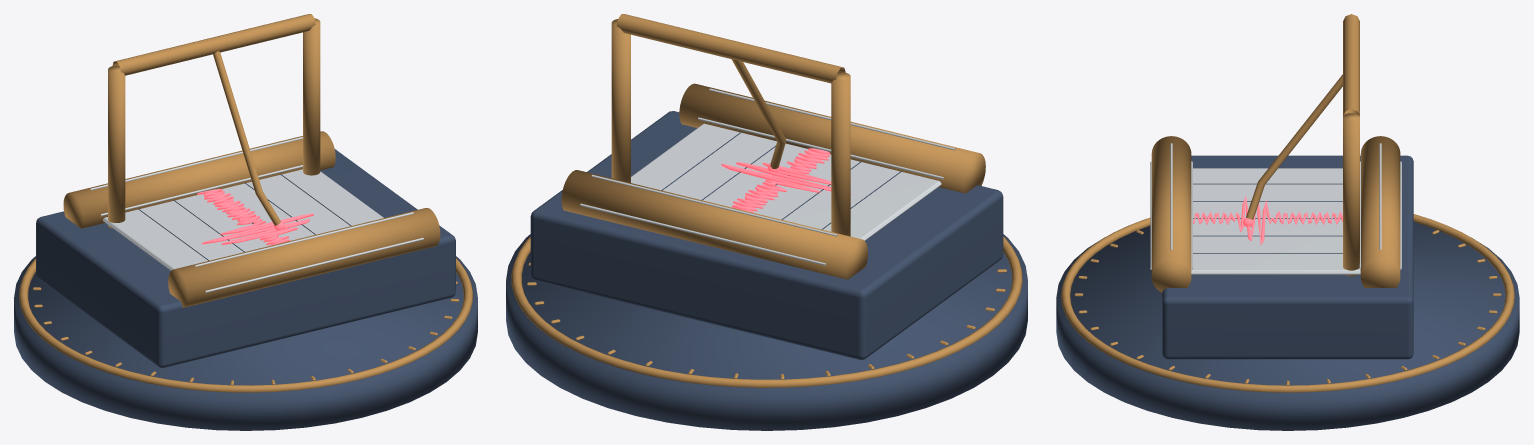
Rendered from driftwatch.glb.
3 renders of one model, left to right at view 1: azimuth 30°, elevation 25°; view 2: azimuth 150°, elevation 25°; view 3: azimuth 270°, elevation 25°, orthographic. The views are drawn at different scales.
Visible parts, largest first — view 1: driftwatchMount, PaperFeedMesh, NeedlePivotMesh, RollerPivot0Mesh, RollerPivot1Mesh; view 2: driftwatchMount, PaperFeedMesh, RollerPivot1Mesh, RollerPivot0Mesh, NeedlePivotMesh; view 3: driftwatchMount, PaperFeedMesh, NeedlePivotMesh, RollerPivot0Mesh, RollerPivot1Mesh.
Part boxes in pixels (x1,y1,x2,y2): driftwatchMount: (14,14,477,430); PaperFeedMesh: (197,189,313,245); NeedlePivotMesh: (213,51,284,230); RollerPivot0Mesh: (194,212,423,292); RollerPivot1Mesh: (90,137,302,216); driftwatchMount: (506,14,1027,430); PaperFeedMesh: (721,148,850,212); RollerPivot1Mesh: (580,174,837,265); RollerPivot0Mesh: (698,88,955,179); NeedlePivotMesh: (731,59,785,172); driftwatchMount: (1056,14,1519,430); PaperFeedMesh: (1193,196,1342,244); NeedlePivotMesh: (1243,74,1342,226); RollerPivot0Mesh: (1150,143,1192,269); RollerPivot1Mesh: (1359,143,1401,269).
Size of the model in its own units: 3.5 by 2.26 by 3.5.
